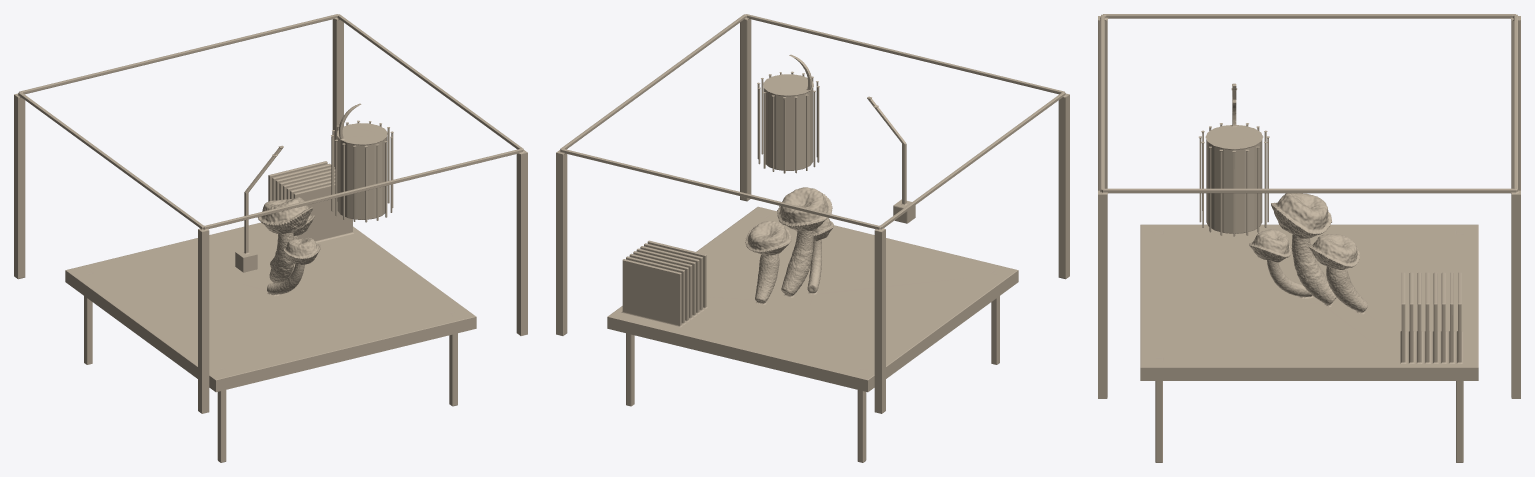
The model's file is 3dcodebench_Mushroom_seed0_L6_Q3__haiku45.glb.
The picture shows the model from 3 angles, left to right: view 1: azimuth 30°, elevation 25°; view 2: azimuth 150°, elevation 25°; view 3: azimuth 270°, elevation 25°; orthographic projection. The views are drawn at different scales.
Parts seen in each view (by area): view 1: object; view 2: object; view 3: object.
Boxes of the visible parts, left/top/right/bottom form: object: left=14, top=14, right=527, bottom=462; object: left=556, top=14, right=1069, bottom=462; object: left=1098, top=14, right=1520, bottom=462.
Size of the model in its own units: 2.25 by 1.92 by 2.25.
